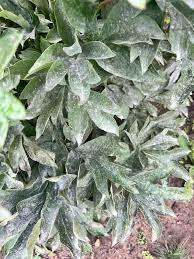powdery_mildew: (10, 29, 184, 259)
